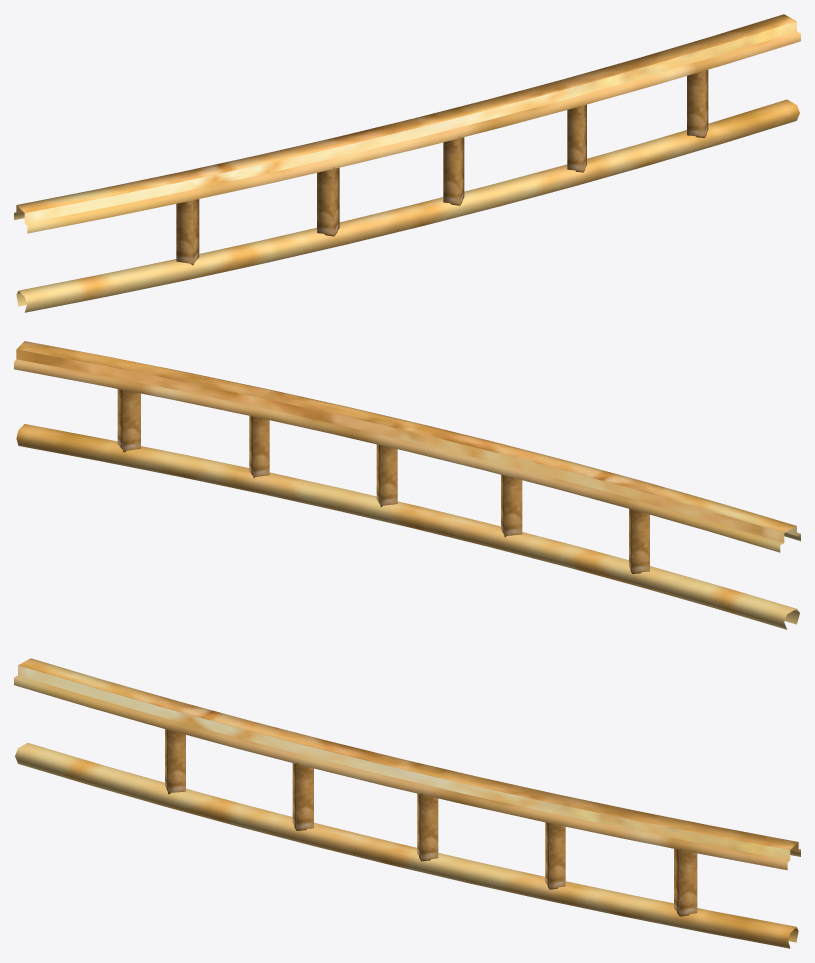
Rendered from S_Build_City187_H3.FBX.
The picture shows the model from 3 angles, top to bottom: view 1: azimuth 30°, elevation 25°; view 2: azimuth 150°, elevation 25°; view 3: azimuth 330°, elevation 25°; orthographic projection.
Visible parts, largest first — view 1: S_Build_City187_H3; view 2: S_Build_City187_H3; view 3: S_Build_City187_H3.
Boxes of the visible parts, bbox=[...] form: S_Build_City187_H3: bbox=[14, 14, 800, 312]; S_Build_City187_H3: bbox=[14, 341, 800, 629]; S_Build_City187_H3: bbox=[14, 658, 800, 948].
Bounding box in the file's own units: 458 × 32.36 × 56.08.
Materials: 1 (1 with a texture image).
